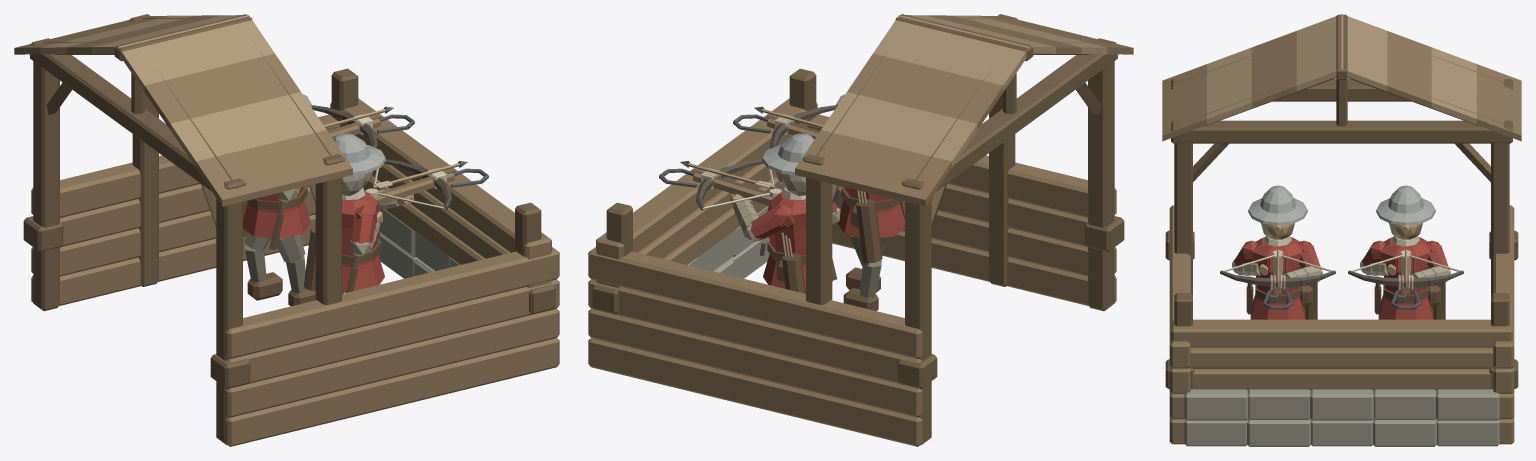
The model's file is field_blockhouse.glb.
3 views of the same model, side by side, from view 1: azimuth 30°, elevation 25°; view 2: azimuth 150°, elevation 25°; view 3: azimuth 270°, elevation 25° (orthographic). The views are drawn at different scales.
Parts seen in each view (by area): view 1: field_blockhouse_oak, field_blockhouse_oak_dark, field_blockhouse_oak_light, field_blockhouse_stone, Fieldwork_left_garrison_root_team_cloth, Fieldwork_right_garrison_root_hose, Fieldwork_right_garrison_root_leather, Fieldwork_right_garrison_root_team_cloth, Fieldwork_left_garrison_root_steel, Fieldwork_left_garrison_root_leather, Fieldwork_left_garrison_root_padded_linen, Fieldwork_left_garrison_root_linen (+3 smaller); view 2: field_blockhouse_oak, field_blockhouse_oak_dark, field_blockhouse_oak_light, Fieldwork_right_garrison_root_team_cloth, Fieldwork_left_garrison_root_leather, field_blockhouse_stone, Fieldwork_left_garrison_root_team_cloth, Fieldwork_right_garrison_root_steel, Fieldwork_right_garrison_root_padded_linen, Fieldwork_right_garrison_root_leather, Fieldwork_left_garrison_root_hose, Fieldwork_right_garrison_root_linen (+3 smaller); view 3: field_blockhouse_oak, field_blockhouse_oak_dark, field_blockhouse_stone, field_blockhouse_oak_light, Fieldwork_left_garrison_root_team_cloth, Fieldwork_right_garrison_root_team_cloth, Fieldwork_left_garrison_root_steel, Fieldwork_right_garrison_root_steel, Fieldwork_left_garrison_root_leather, Fieldwork_right_garrison_root_leather, Fieldwork_right_garrison_root_padded_linen, Fieldwork_left_garrison_root_padded_linen (+6 smaller).
Boxes of the visible parts, box(x1,y1,x2,y2) form: field_blockhouse_oak: box(14, 15, 559, 446); field_blockhouse_oak_dark: box(23, 14, 555, 445); field_blockhouse_oak_light: box(40, 15, 326, 167); field_blockhouse_stone: box(378, 209, 460, 278); Fieldwork_left_garrison_root_team_cloth: box(315, 190, 384, 292); Fieldwork_right_garrison_root_hose: box(244, 232, 306, 293); Fieldwork_right_garrison_root_leather: box(243, 187, 315, 306); Fieldwork_right_garrison_root_team_cloth: box(243, 187, 310, 239); Fieldwork_left_garrison_root_steel: box(333, 133, 385, 175); Fieldwork_left_garrison_root_leather: box(304, 227, 380, 292); Fieldwork_left_garrison_root_padded_linen: box(342, 174, 399, 256); Fieldwork_left_garrison_root_linen: box(342, 168, 446, 209); field_blockhouse_oak: box(588, 15, 1133, 446); field_blockhouse_oak_dark: box(592, 14, 1124, 445); field_blockhouse_oak_light: box(821, 15, 1107, 167); Fieldwork_right_garrison_root_team_cloth: box(750, 190, 837, 289); Fieldwork_left_garrison_root_leather: box(841, 187, 904, 310); field_blockhouse_stone: box(687, 206, 769, 278); Fieldwork_left_garrison_root_team_cloth: box(837, 187, 904, 237); Fieldwork_right_garrison_root_steel: box(762, 133, 814, 175); Fieldwork_right_garrison_root_padded_linen: box(733, 174, 840, 241); Fieldwork_right_garrison_root_leather: box(767, 241, 836, 293); Fieldwork_left_garrison_root_hose: box(850, 235, 887, 298); Fieldwork_right_garrison_root_linen: box(701, 168, 805, 209); field_blockhouse_oak: box(1162, 31, 1521, 444); field_blockhouse_oak_dark: box(1165, 14, 1518, 388); field_blockhouse_stone: box(1184, 389, 1499, 446); field_blockhouse_oak_light: box(1207, 14, 1476, 124); Fieldwork_left_garrison_root_team_cloth: box(1233, 237, 1321, 319); Fieldwork_right_garrison_root_team_cloth: box(1361, 237, 1449, 319); Fieldwork_left_garrison_root_steel: box(1248, 185, 1307, 225); Fieldwork_right_garrison_root_steel: box(1376, 185, 1435, 225); Fieldwork_left_garrison_root_leather: box(1246, 282, 1317, 319); Fieldwork_right_garrison_root_leather: box(1374, 282, 1445, 319); Fieldwork_right_garrison_root_padded_linen: box(1360, 223, 1450, 287); Fieldwork_left_garrison_root_padded_linen: box(1232, 223, 1322, 287).
Bounding box in the file's own units: 3 × 2.72 × 3.09.
